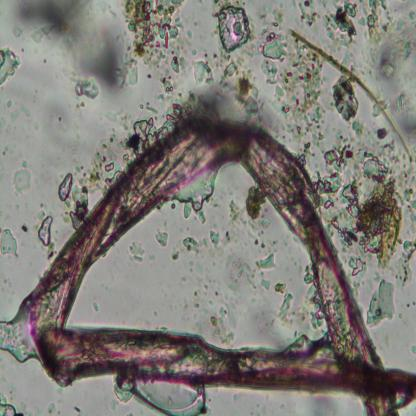Air bubble: (134, 380, 206, 414), (172, 168, 218, 214), (35, 214, 54, 249), (57, 171, 72, 202)
Background material: (286, 28, 412, 157), (320, 140, 414, 284), (11, 1, 132, 97), (257, 29, 323, 152), (121, 0, 190, 94), (362, 22, 416, 134), (296, 2, 386, 42), (213, 54, 261, 125), (124, 98, 177, 158), (210, 0, 255, 55), (176, 258, 214, 317), (87, 141, 122, 187), (302, 269, 325, 330), (368, 280, 398, 326), (62, 180, 90, 226), (208, 300, 236, 344), (64, 70, 102, 101), (246, 184, 268, 228), (335, 81, 358, 123), (3, 98, 29, 134), (274, 281, 294, 323), (191, 52, 214, 88), (12, 158, 32, 196), (0, 48, 21, 84), (224, 256, 251, 281), (112, 373, 134, 403), (0, 224, 19, 258), (254, 251, 279, 273), (246, 227, 266, 253), (127, 240, 146, 264), (183, 238, 206, 256), (0, 396, 23, 414), (207, 226, 223, 251), (228, 204, 243, 228), (152, 228, 168, 249), (22, 220, 35, 242), (221, 231, 237, 248), (170, 248, 180, 261), (260, 278, 270, 291), (409, 345, 416, 354)
Cotton: (28, 113, 416, 415)
